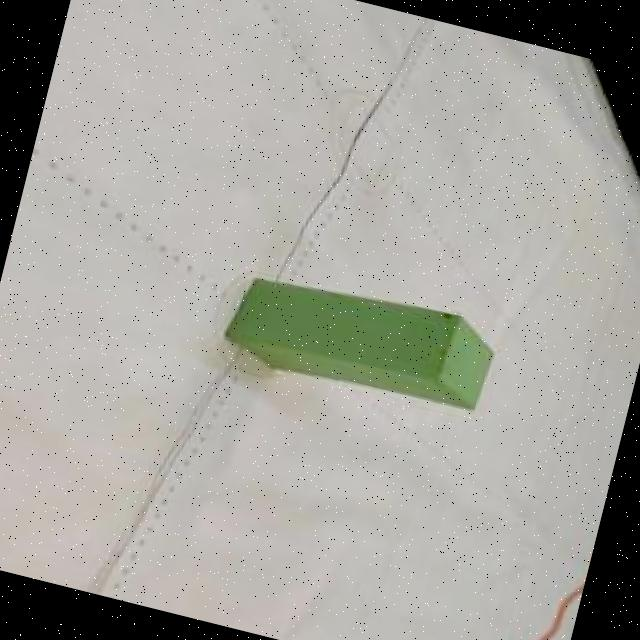greenbox: (220, 259, 502, 420)
